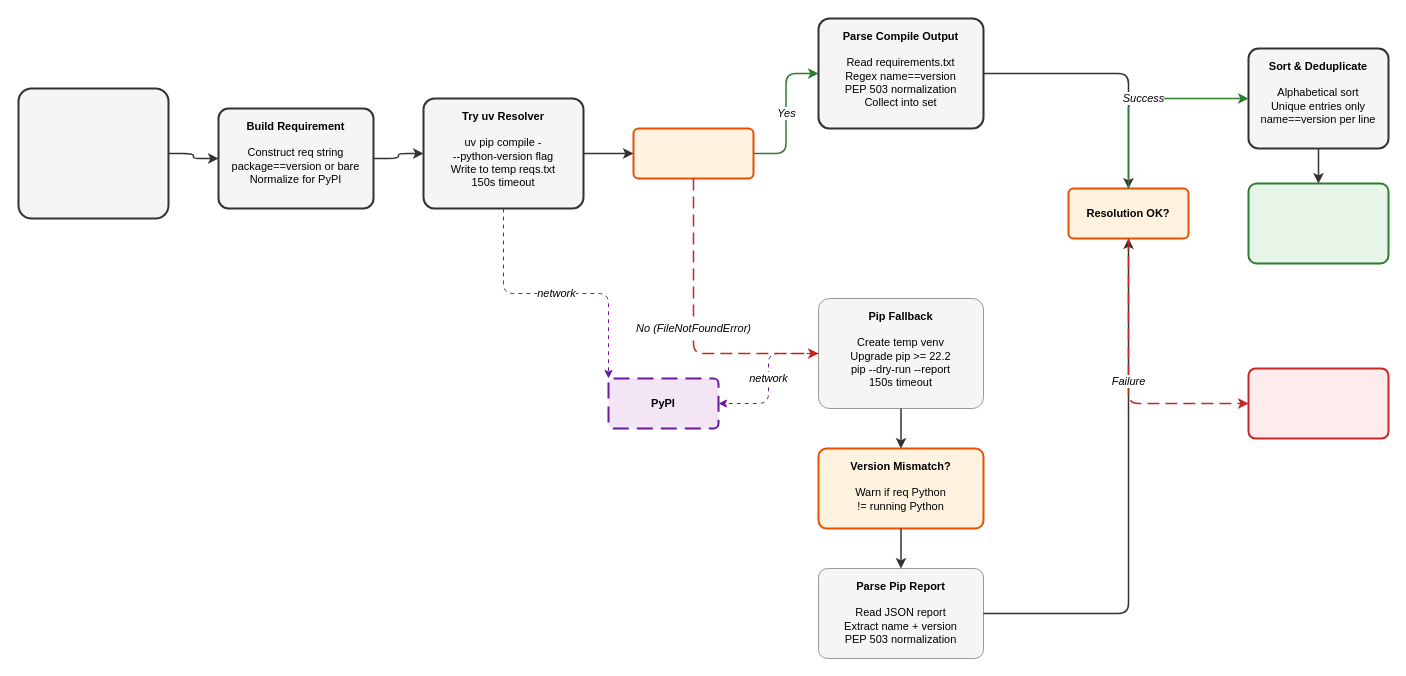
Image size: 1406x676. Some labels were removed from this diagram. Each missing label, with the box of its shape:
/python-full-deps --package (required) --version (latest) --python (3.12): (17, 87, 169, 219)
Dependency Tree Sorted name==version Total dep count: (1247, 182, 1389, 264)
Error Print error to stderr Exit non-zero: (1247, 367, 1389, 439)
uv Available?: (632, 127, 754, 179)
